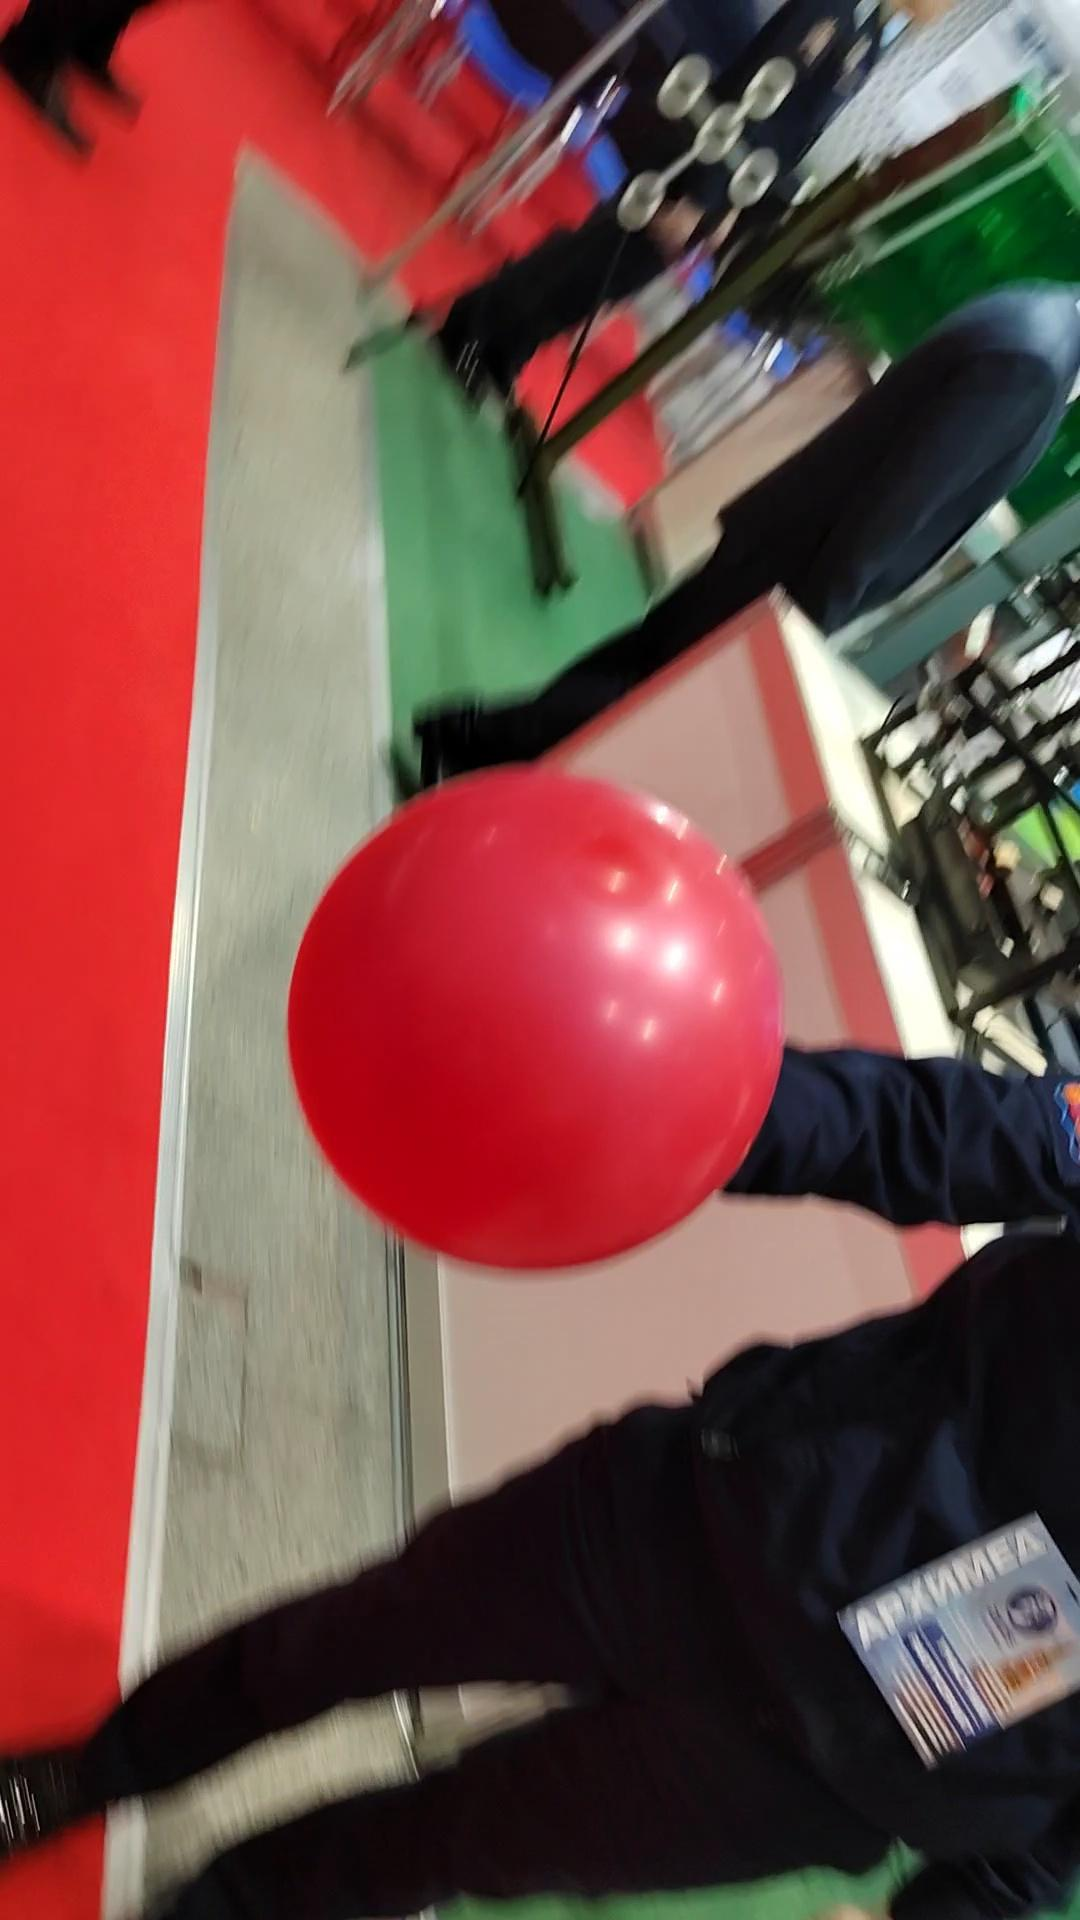red: (255, 742, 803, 1298)
